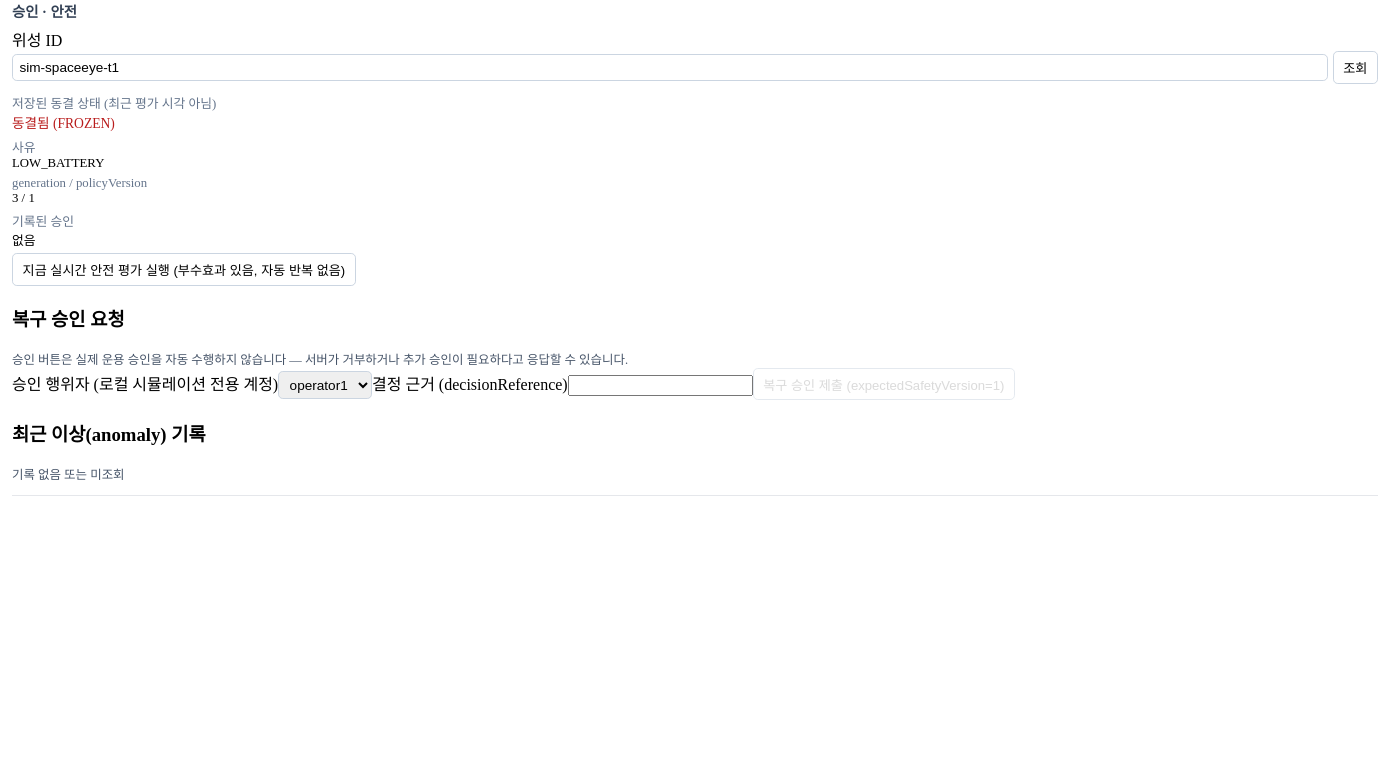
Test: AuthorityPanel approval semantics › approved:false is shown as a denial with the blocking reasons, never as success
The image size is (1390, 768).
Expected: the text "동결됨 (FROZEN)" is shown, [12,116,115,131]
Step 1. Type "operator judgment" into the field labelled "결정 근거 (decisionReference)" → [660, 385], box [568,375,753,396]
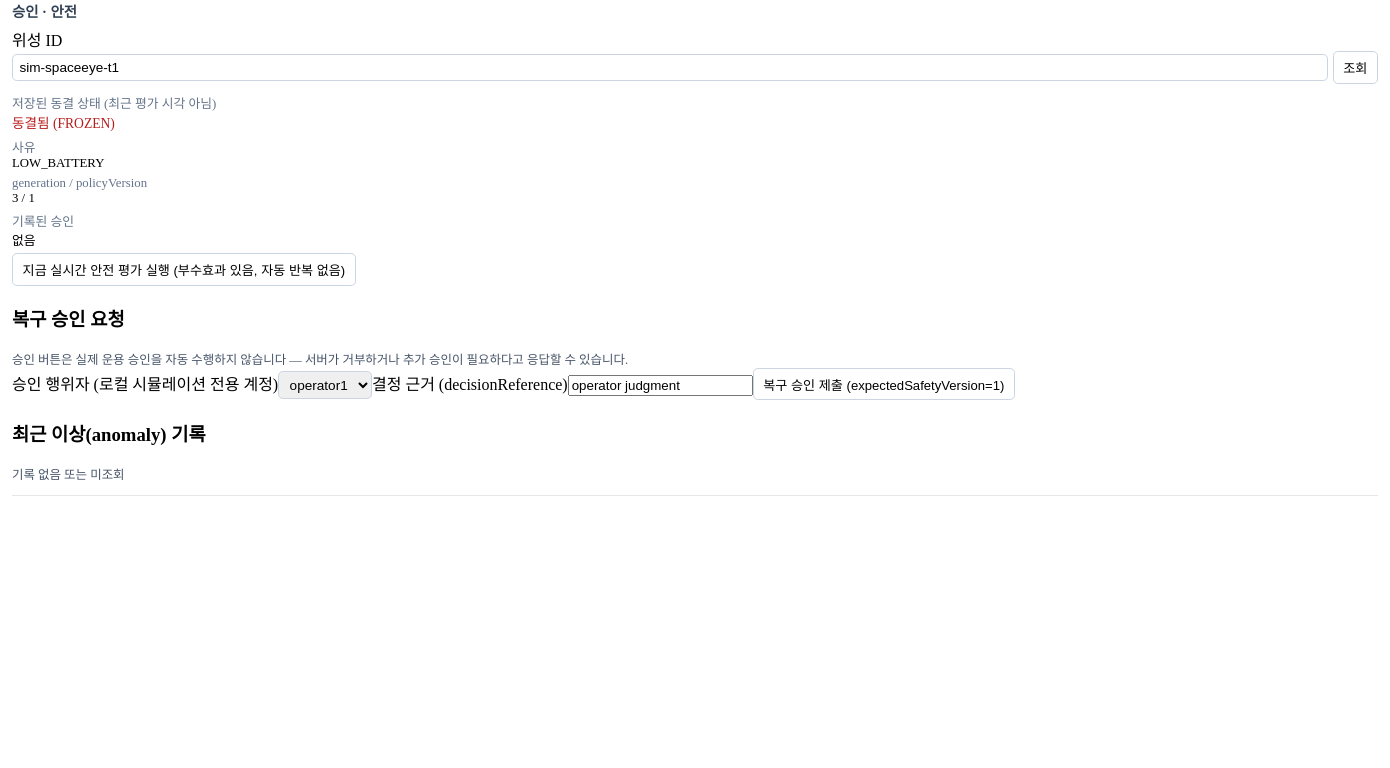
Step 2. Click the button "복구 승인 제출 (expectedSafetyVersion=1)" → [884, 384], box [753,368,1015,400]
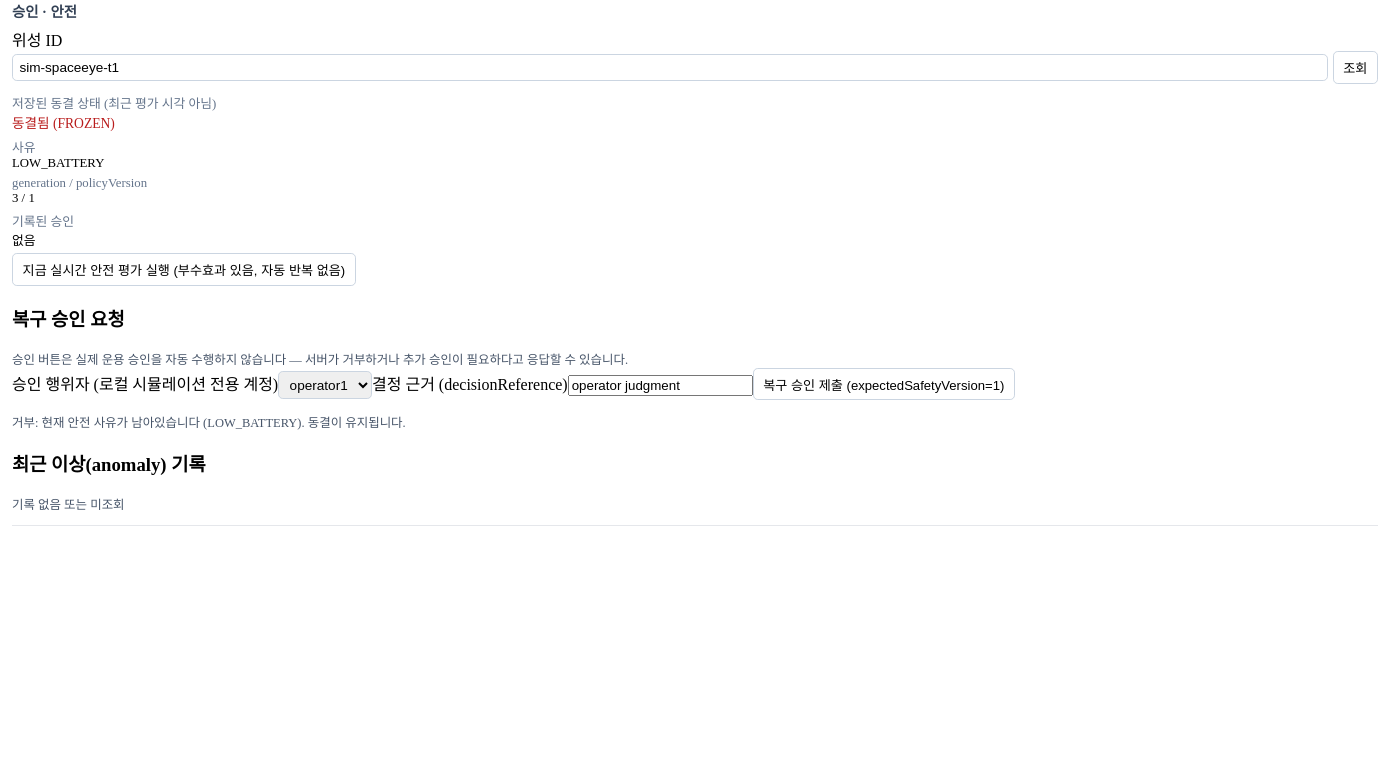
Now the text "거부: 현재 안전 사유가 남아있습니다 (LOW_BATTERY). 동결이 유지됩니다." is shown, box [12,416,406,430]
